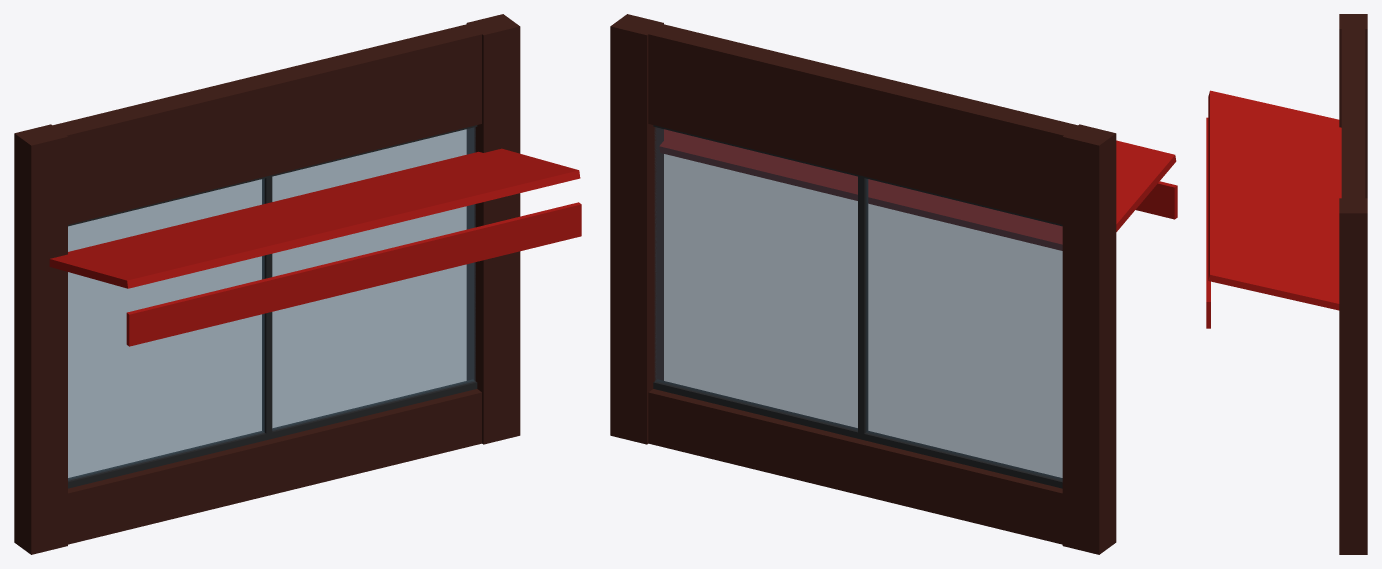
The model's file is KIT_Storefront_4m_BrickDark_Red.glb.
3 views of the same model, side by side, from view 1: azimuth 30°, elevation 25°; view 2: azimuth 150°, elevation 25°; view 3: azimuth 270°, elevation 25° (orthographic). The views are drawn at different scales.
Visible parts, largest first — view 1: KIT_Storefront_4m_BrickDark_Red; view 2: KIT_Storefront_4m_BrickDark_Red; view 3: KIT_Storefront_4m_BrickDark_Red.
Boxes of the visible parts, left/top/right/bottom form: KIT_Storefront_4m_BrickDark_Red: left=14, top=14, right=581, bottom=554; KIT_Storefront_4m_BrickDark_Red: left=610, top=14, right=1177, bottom=554; KIT_Storefront_4m_BrickDark_Red: left=1206, top=14, right=1367, bottom=554.
Bounding box in the file's own units: 4 × 3.2 × 1.37.
